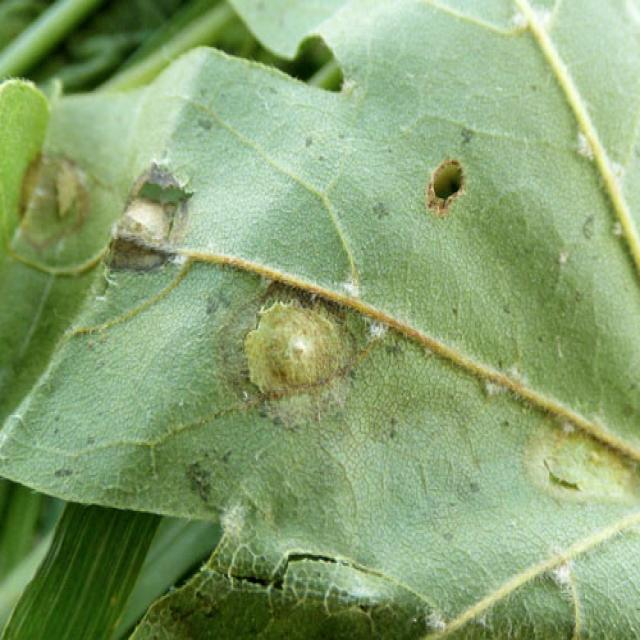Bacterial Blight: (421, 154, 469, 220)
Cotton Ball Rot: (239, 289, 356, 406)
